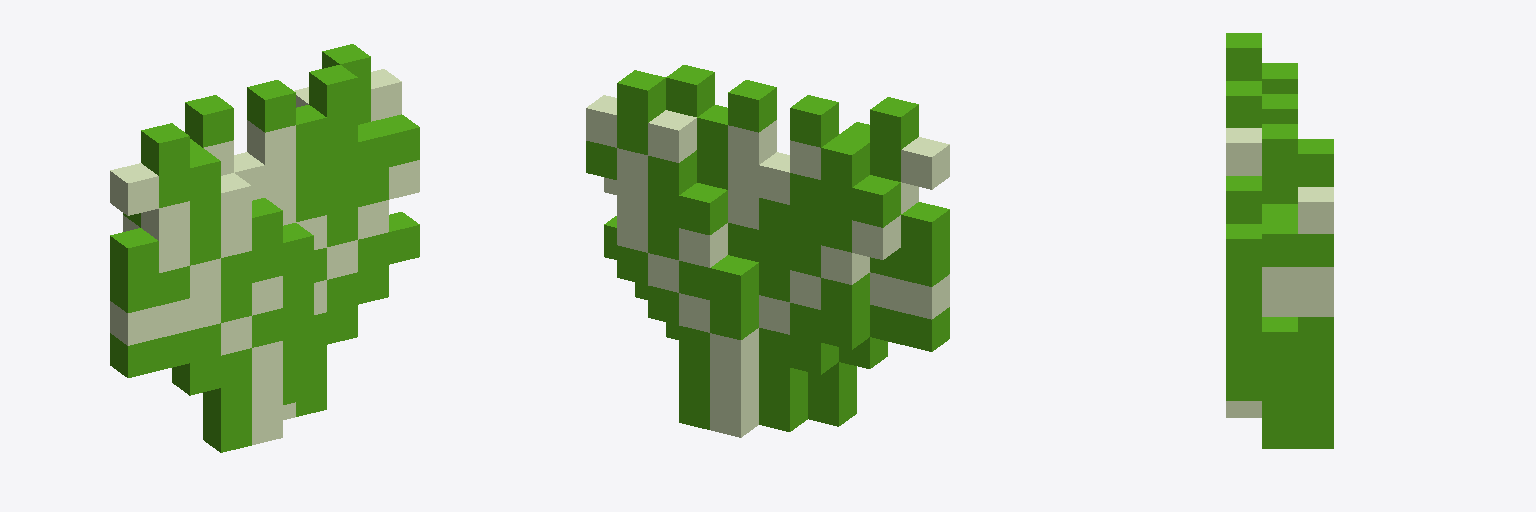
The picture shows the model from 3 angles: view 1: azimuth 30°, elevation 25°; view 2: azimuth 150°, elevation 25°; view 3: azimuth 270°, elevation 25°; orthographic projection.
Visible parts, largest first — view 1: object 1; view 2: object 1; view 3: object 1.
Boxes of the visible parts, x1,y1,x2,y2 form: object 1: [110, 44, 419, 452]; object 1: [586, 65, 949, 437]; object 1: [1226, 33, 1333, 448].
Size of the model in its own units: 1 by 1 by 0.3.
1 materials, 1 textured.